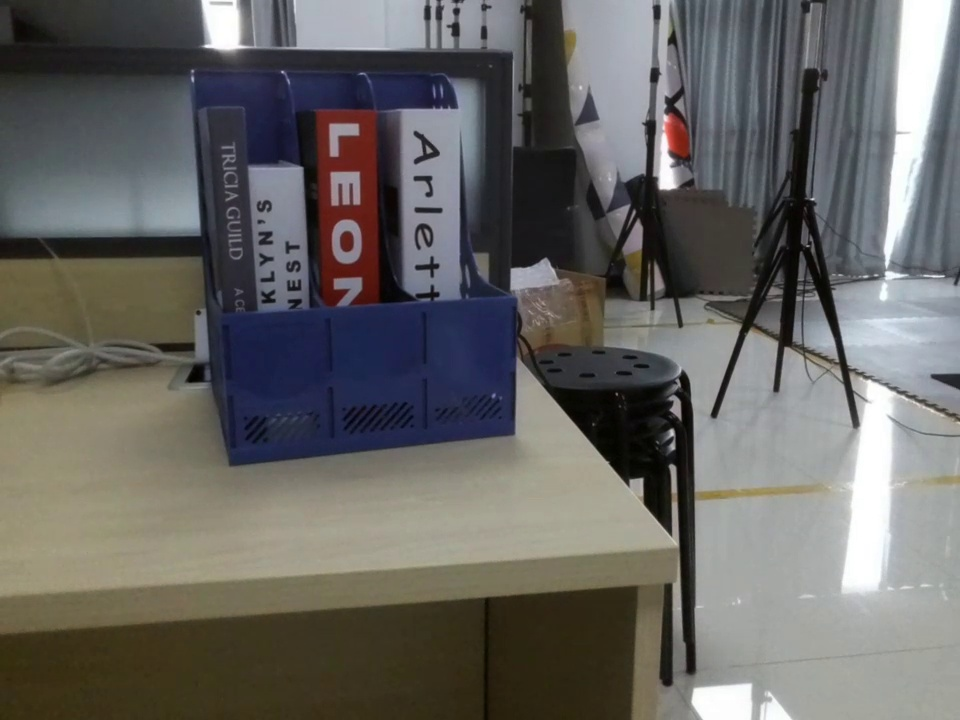files: (186, 59, 518, 467)
